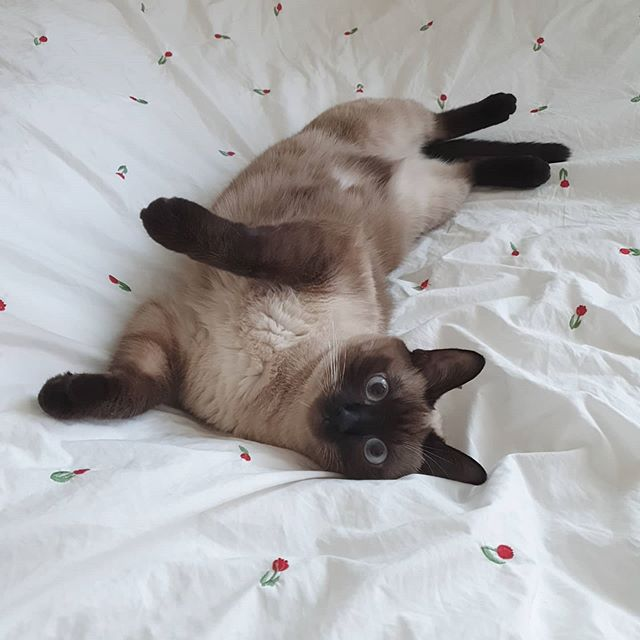cat: (307, 332, 493, 492)
